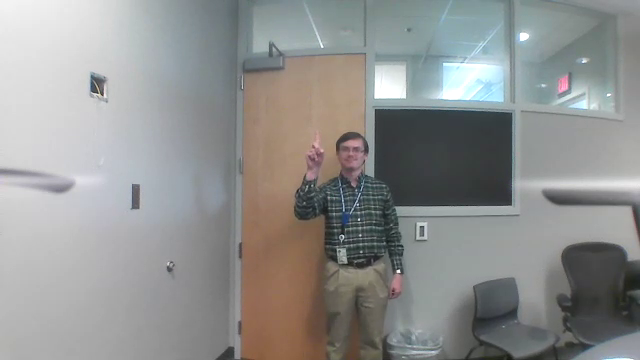up: (303, 127, 325, 166)
